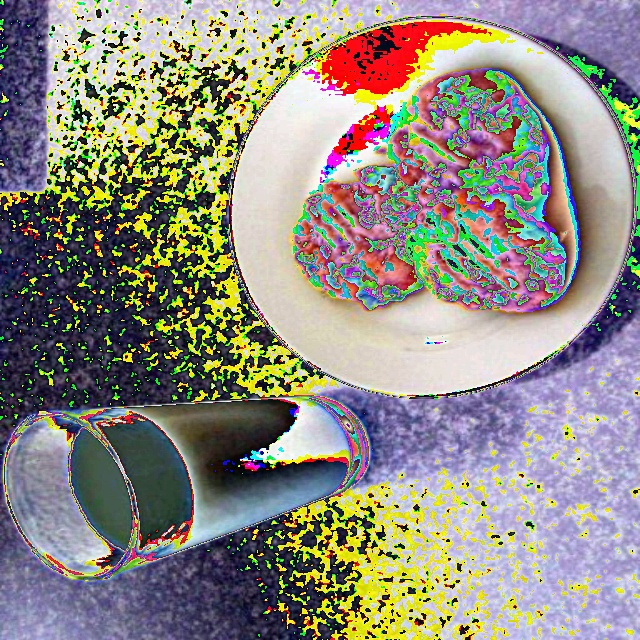background: (67, 163, 353, 559), (276, 69, 564, 312)
